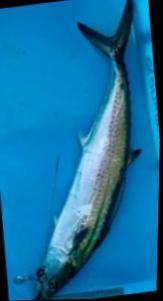fish: (34, 0, 142, 300)
